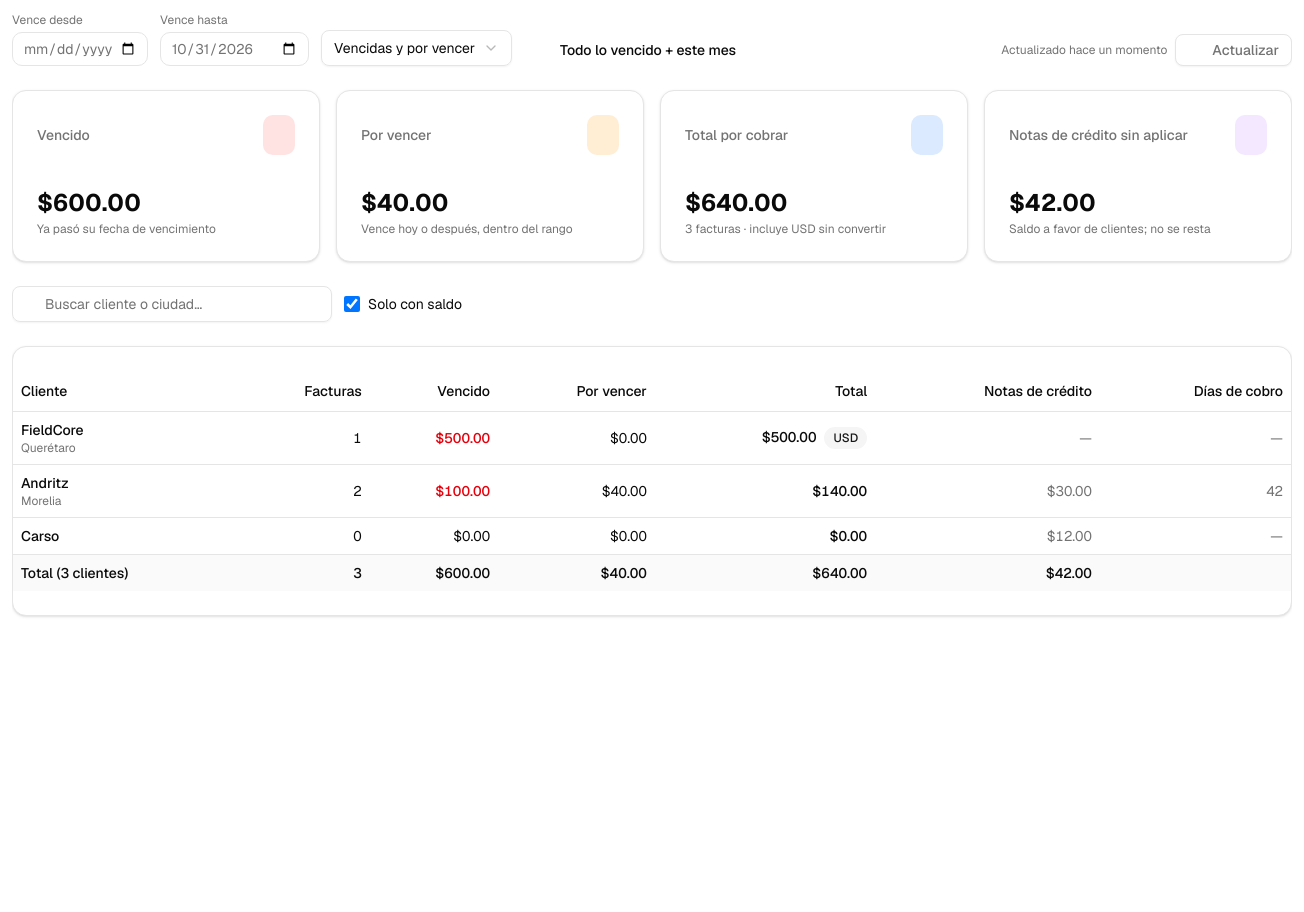
Test: CustomersList › cambiar una fecha reescribe la URL; un "desde" posterior al "hasta" se rechaza
Type "2026-10-01" into the date field labelled "Vence desde" at [80, 49], box x1=12 y1=32 x2=148 y2=66
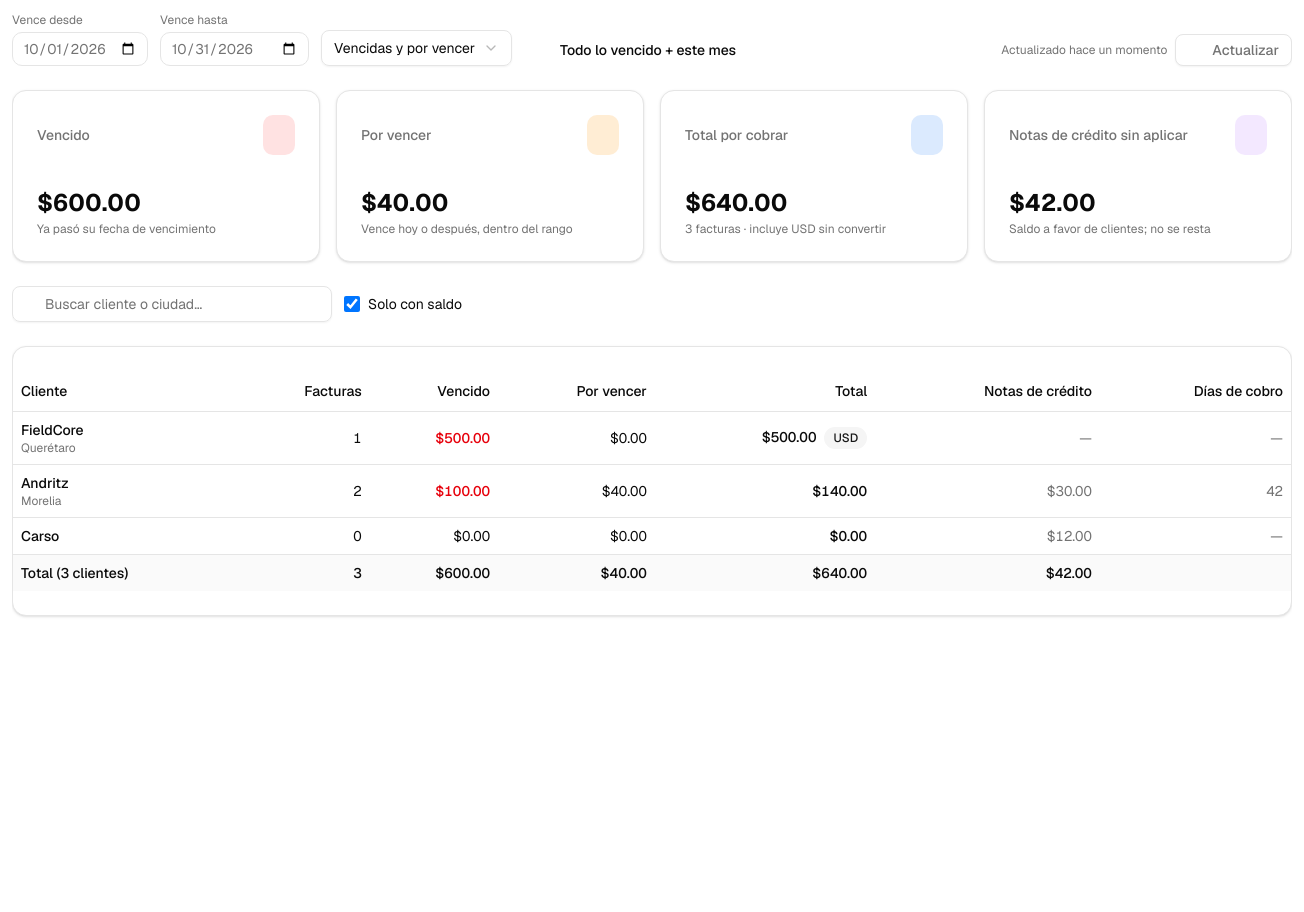
Type "2026-11-15" into the date field labelled "Vence desde" at [80, 49], box x1=12 y1=32 x2=148 y2=66
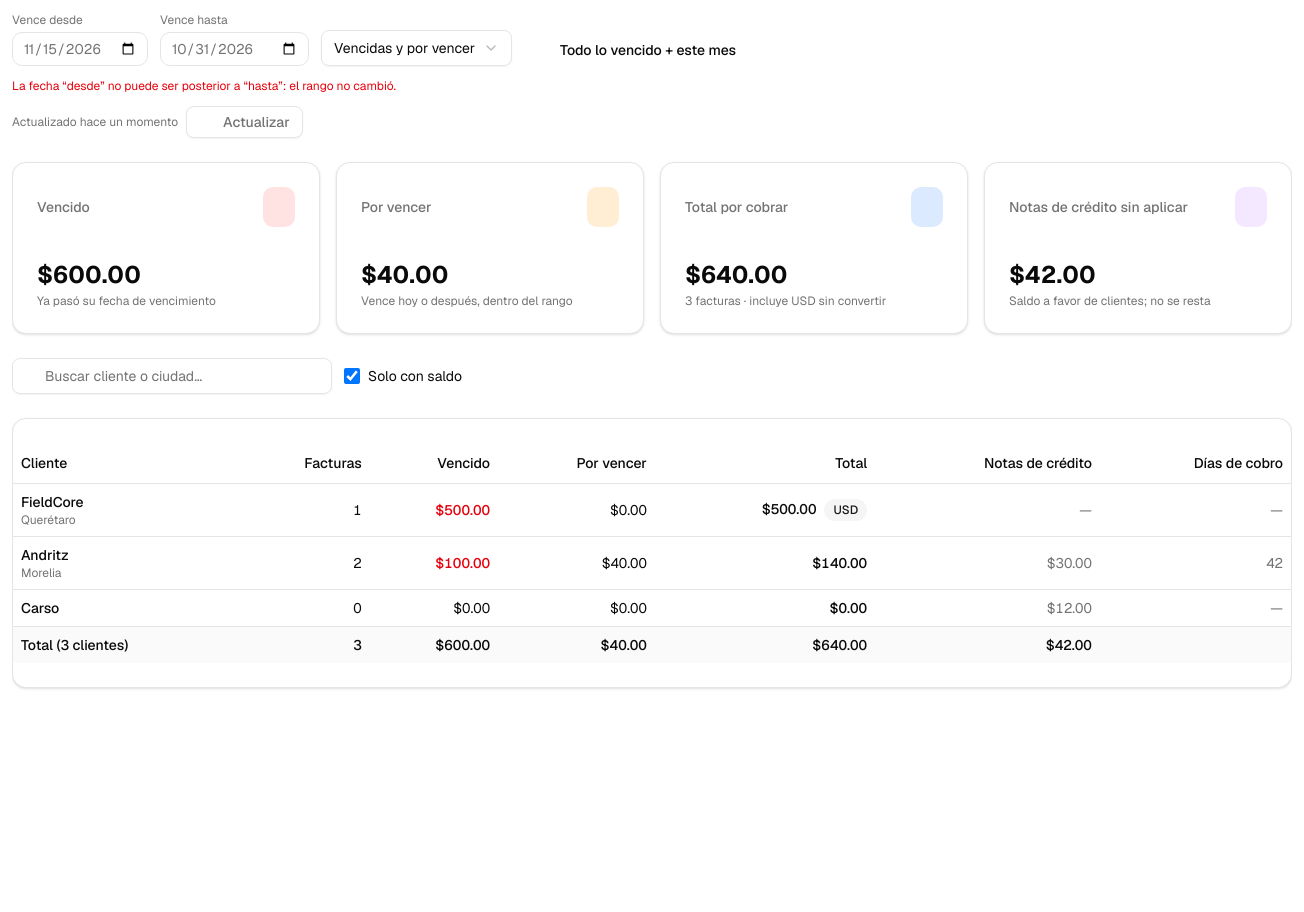
Expected: the message shows "no puede ser posterior", x1=12 y1=78 x2=396 y2=94
